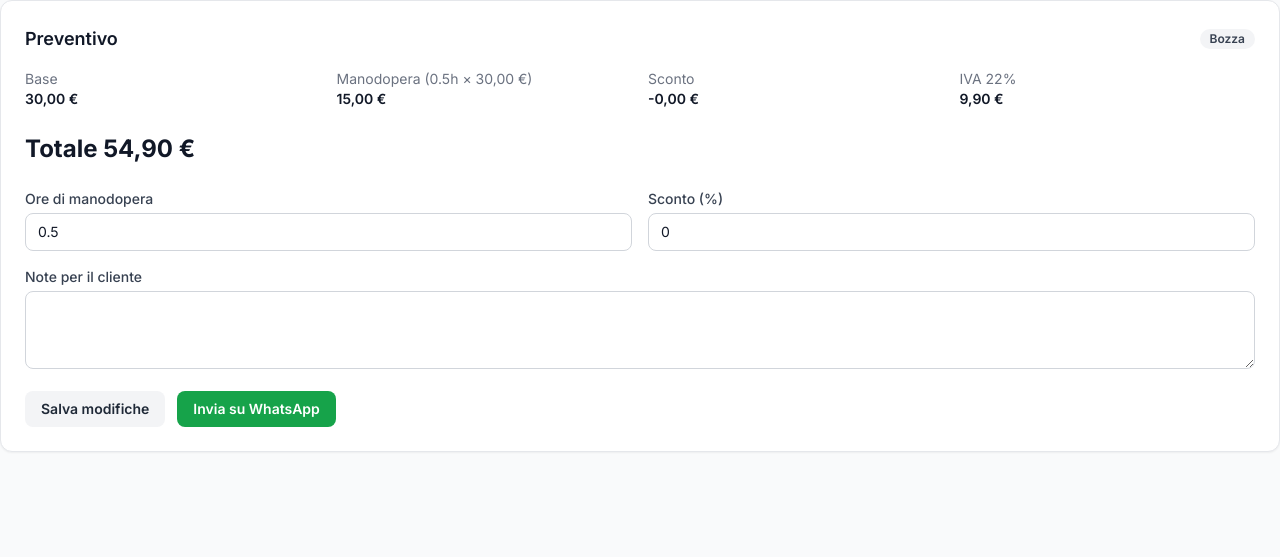
Test: QuoteEditor › sends the quote on WhatsApp and shows the message preview
Click the button "Invia su WhatsApp" at coordinates (257, 409), box [177, 391, 336, 427]
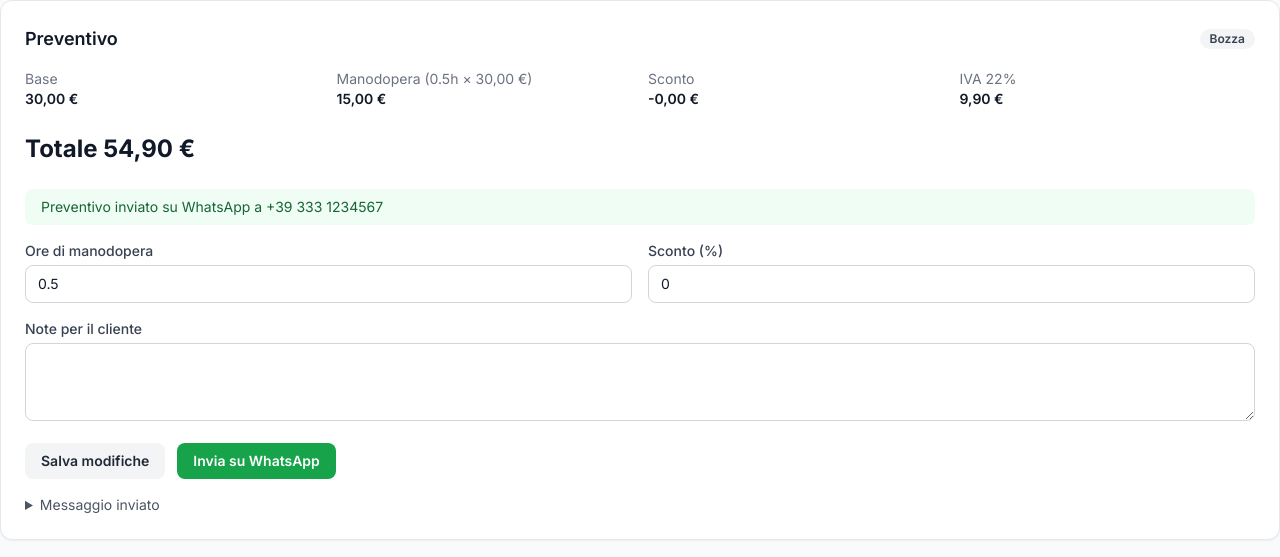
Expected: the message shows "inviato su WhatsApp a +39 333 1234567", [41, 198, 383, 215]
